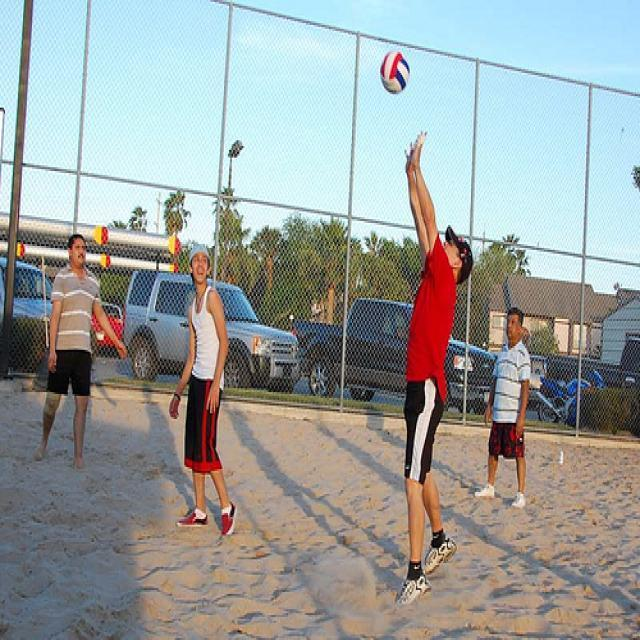volleyball: (379, 50, 411, 94)
